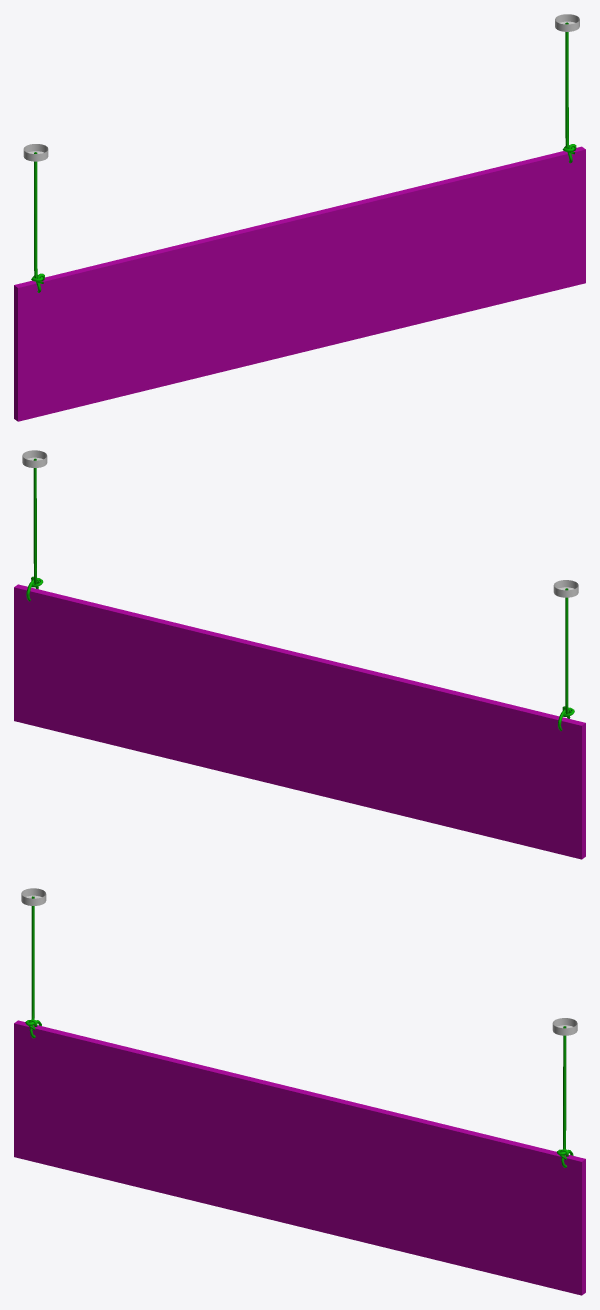
File: ApocalypticPharmacy01_Consultation.fbx
3 views of the same model, one above another, from view 1: azimuth 30°, elevation 25°; view 2: azimuth 150°, elevation 25°; view 3: azimuth 330°, elevation 25° (orthographic).
Parts seen in each view (by area): view 1: ApocalypticPharmacy01_Consultation; view 2: ApocalypticPharmacy01_Consultation; view 3: ApocalypticPharmacy01_Consultation.
Part boxes in pixels (<box>): ApocalypticPharmacy01_Consultation: <box>14,14,585,421</box>; ApocalypticPharmacy01_Consultation: <box>14,450,585,859</box>; ApocalypticPharmacy01_Consultation: <box>14,888,585,1295</box>.
Bounding box in the file's own units: 0.8 × 0.3601 × 0.03.
